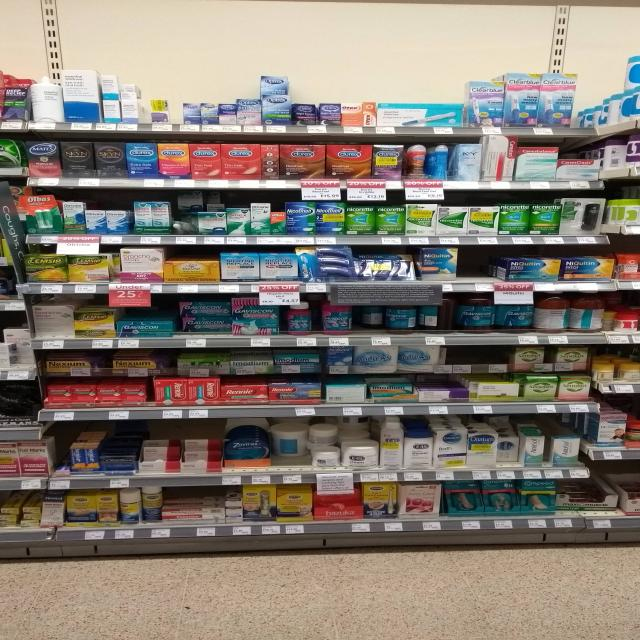void: (445, 346, 510, 370), (466, 246, 498, 281)
